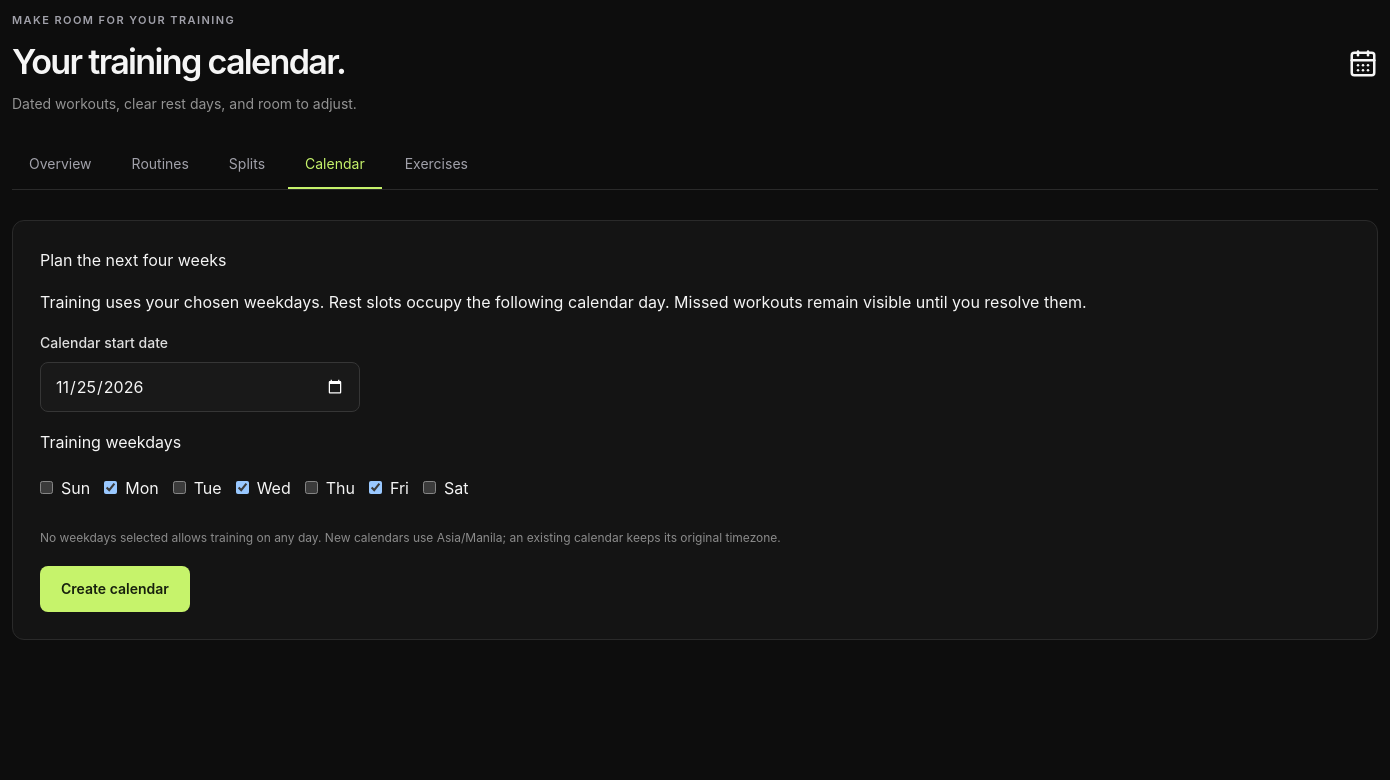
Test: Fixed calendar › creates a calendar from the selected dates, weekdays, and account timezone
Type "2026-11-30" into the date field labelled "Calendar start date" at point(200, 387), box [40,362,360,412]
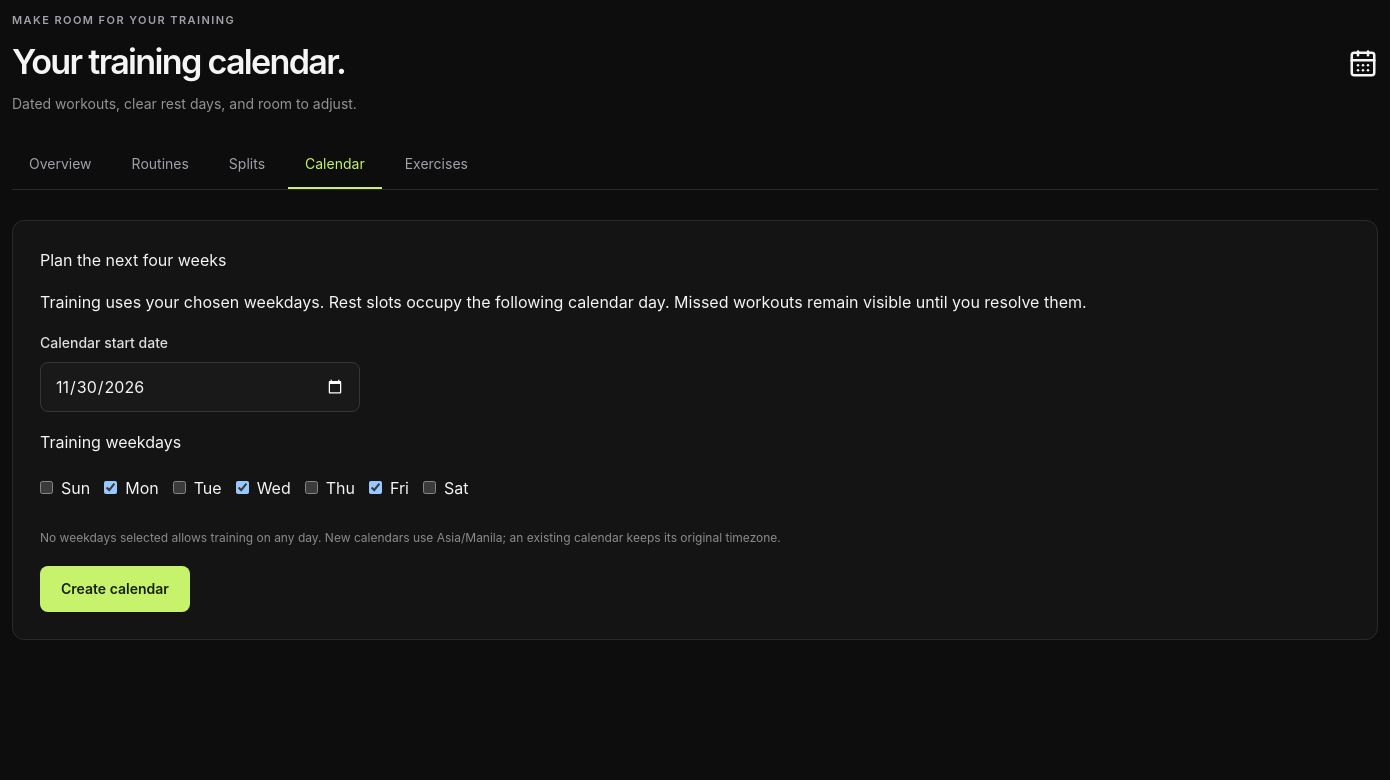
Click the checkbox named "Tuesday" at point(179, 488), box [173,482,186,494]
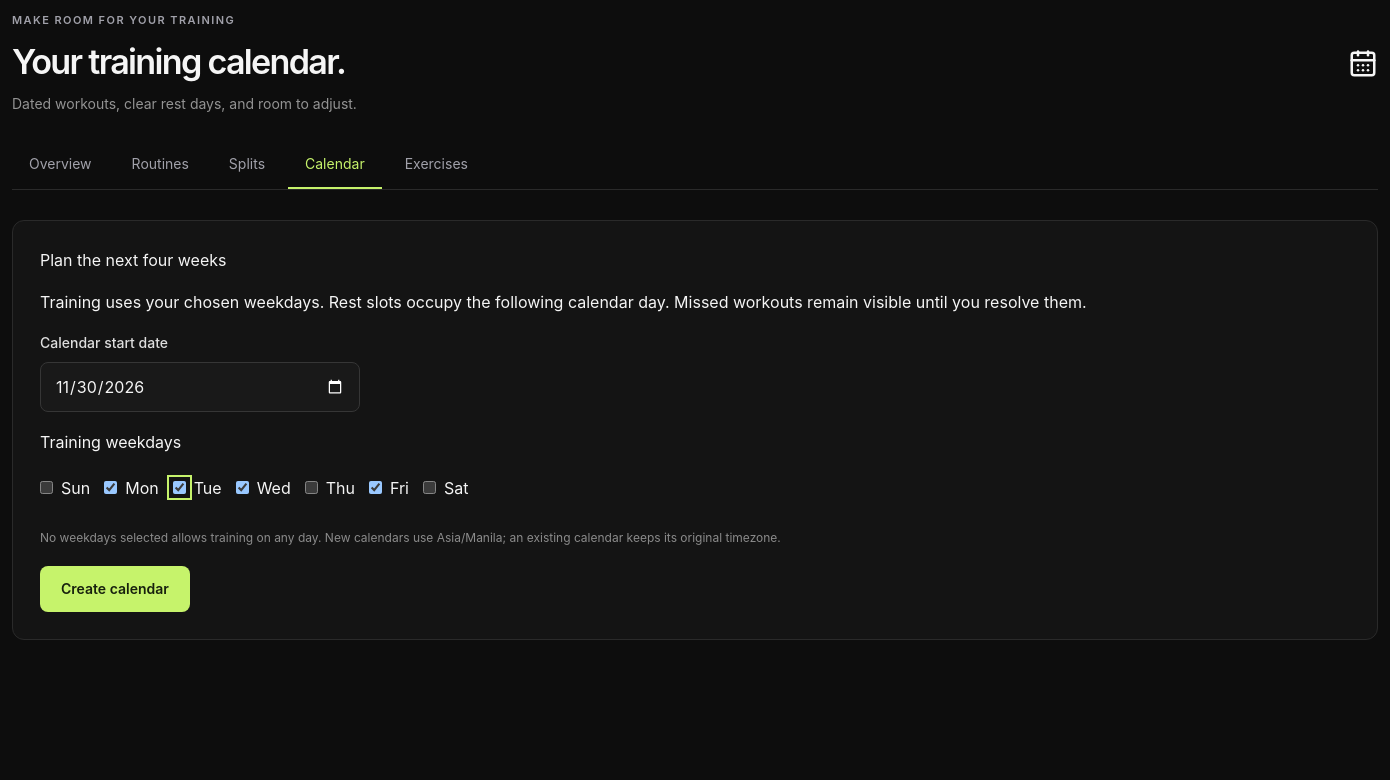
Click the button "Create calendar" at point(115, 589), box [40,566,190,612]
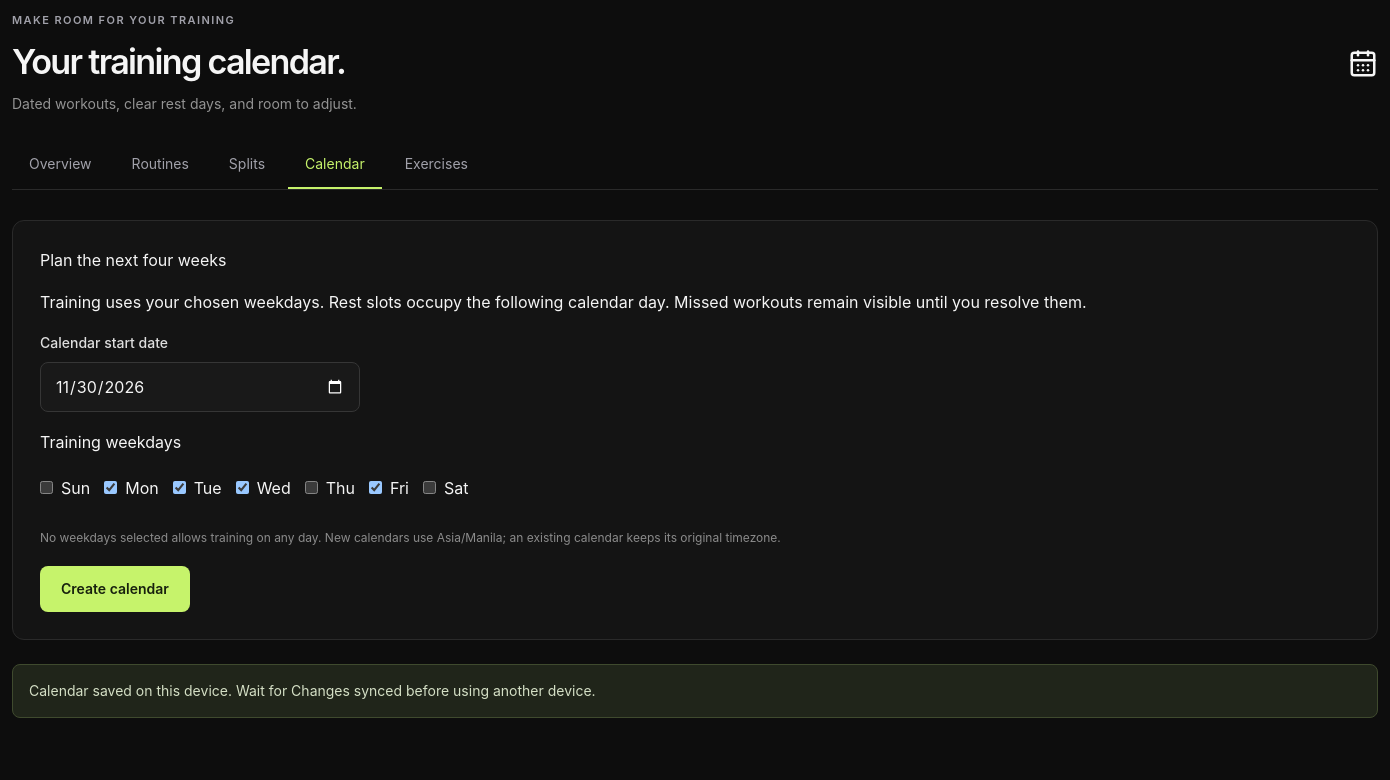
Check: the message shows "Calendar saved on this device", box [29,682,596,699]
